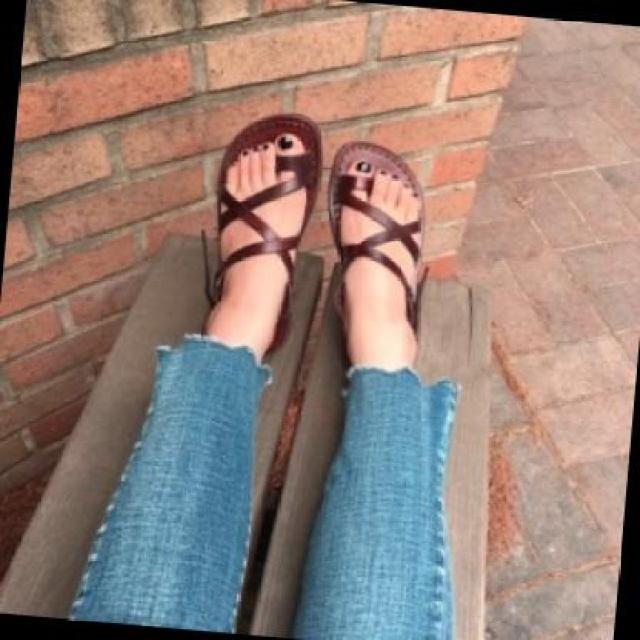Sandals: (324, 138, 428, 388), (213, 110, 319, 351)
